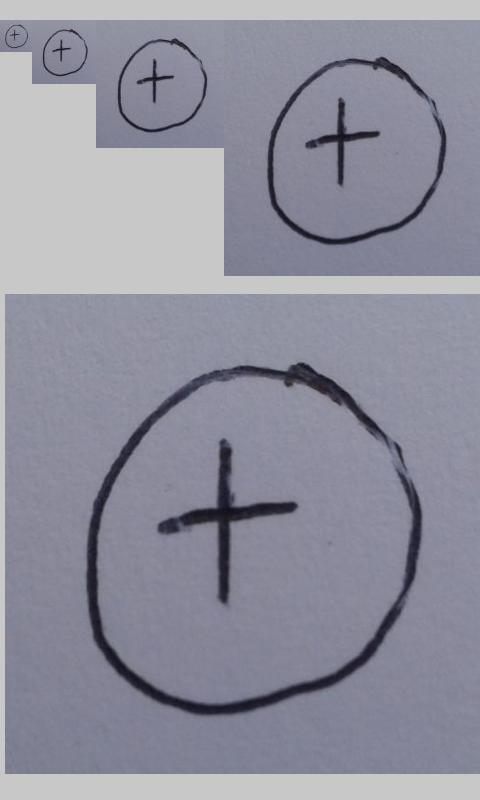button: (86, 361, 424, 718), (266, 57, 448, 246), (117, 38, 208, 133), (42, 28, 88, 76), (4, 24, 29, 49)
